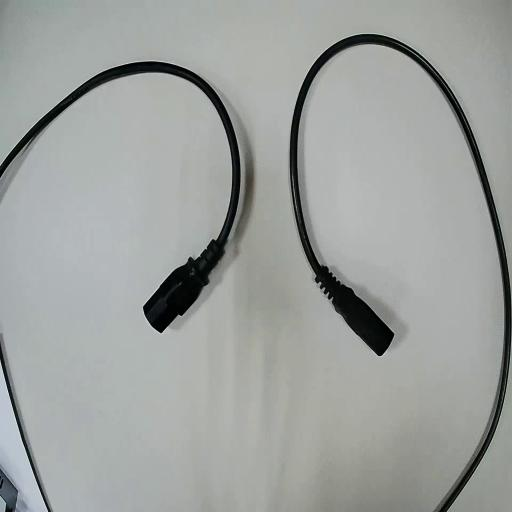wire: (290, 35, 511, 511), (0, 62, 239, 331)
